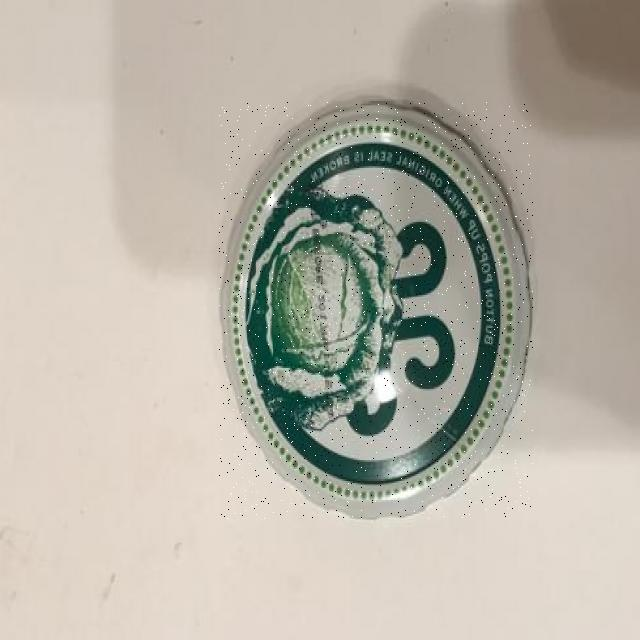metal: (220, 102, 533, 518)
